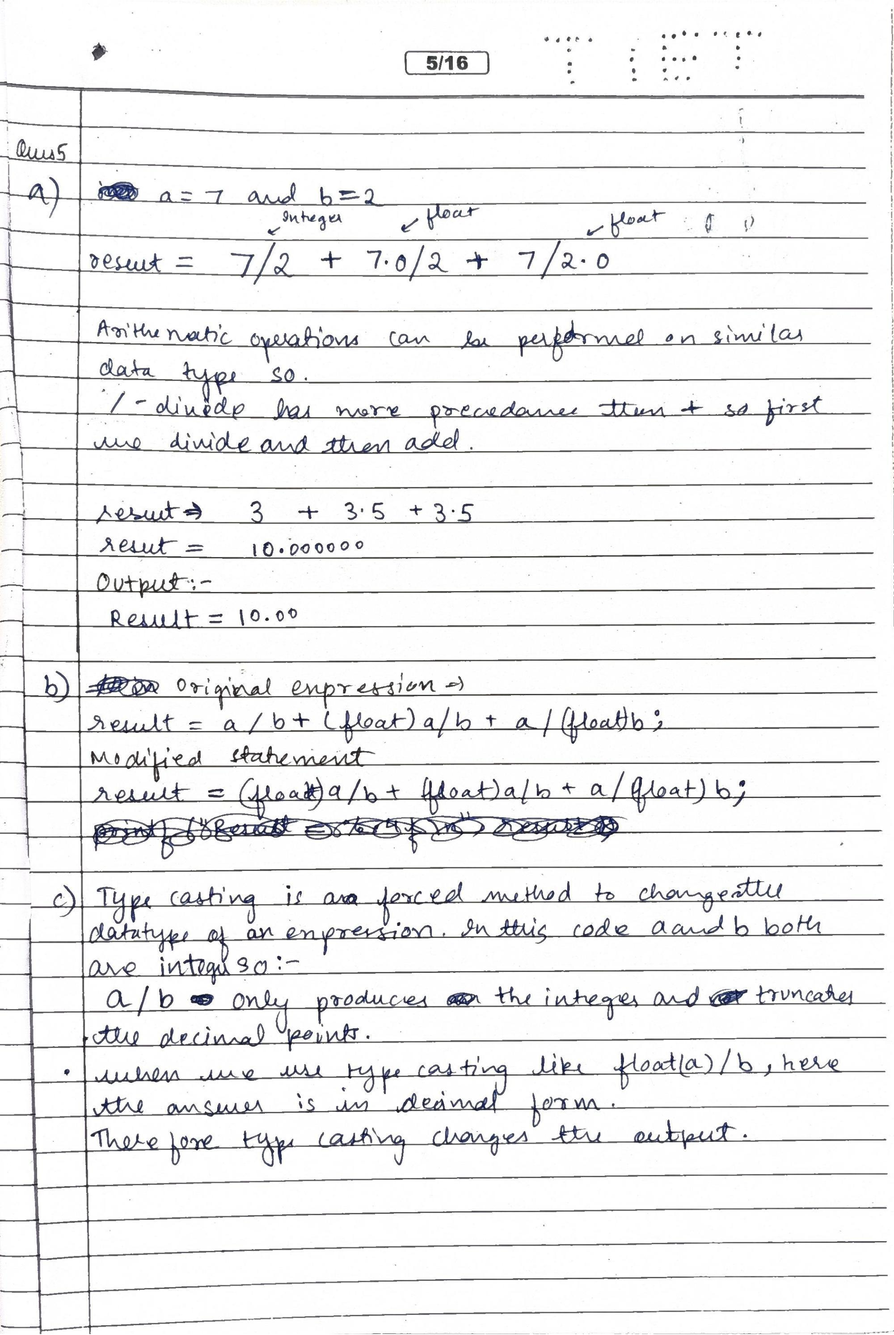cuttings: (91, 811, 620, 863), (85, 674, 160, 697), (97, 178, 144, 202), (708, 988, 748, 1009), (444, 990, 479, 1007), (190, 993, 215, 1006)
